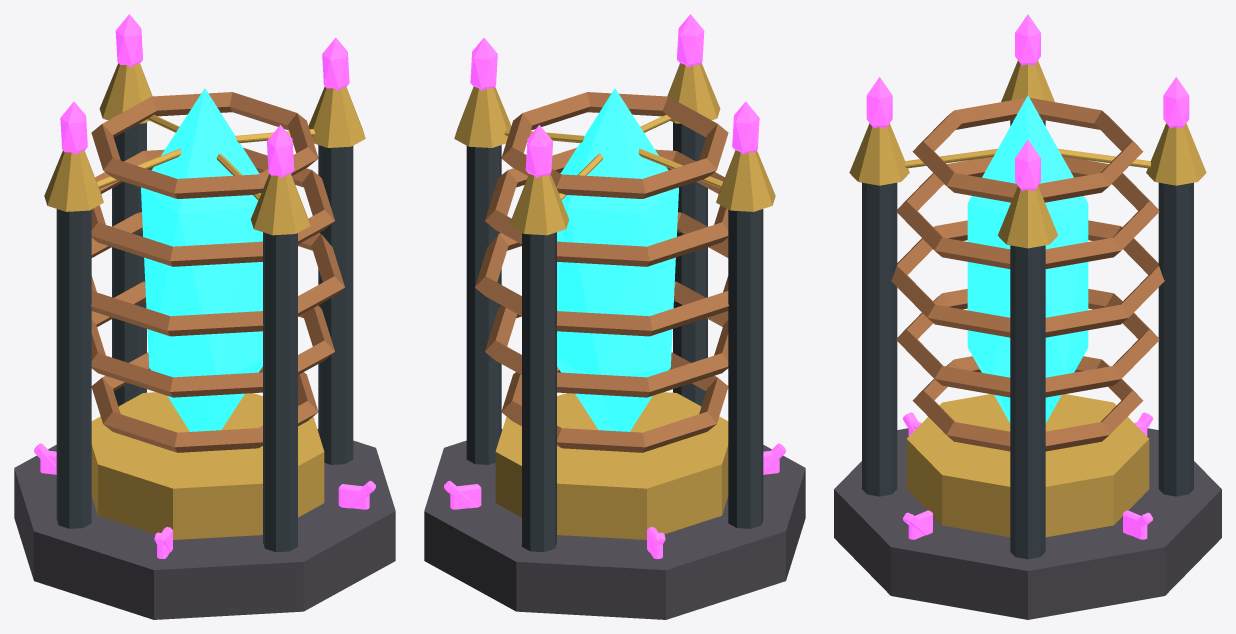
The model's file is mana_condenser.glb.
The picture shows the model from 3 angles, left to right: view 1: azimuth 30°, elevation 25°; view 2: azimuth 150°, elevation 25°; view 3: azimuth 270°, elevation 25°; orthographic projection.
Visible parts, largest first — view 1: Condenser plinth, Condenser crystal, Condenser socket, Arcane pylon.002, Arcane pylon.003, Arcane pylon, Copper induction coil.004, Copper induction coil.003, Copper induction coil.002, Copper induction coil.001, Copper induction coil, Arcane pylon.001 (+8 smaller); view 2: Condenser plinth, Condenser crystal, Condenser socket, Arcane pylon.002, Arcane pylon.001, Arcane pylon, Copper induction coil.004, Copper induction coil.003, Copper induction coil.002, Copper induction coil.001, Copper induction coil, Arcane pylon.003 (+8 smaller); view 3: Condenser plinth, Condenser socket, Condenser crystal, Arcane pylon, Arcane pylon.001, Arcane pylon.003, Copper induction coil.004, Copper induction coil.002, Copper induction coil.003, Copper induction coil.001, Copper induction coil, Pylon cap (+9 smaller).
Boxes of the visible parts, box(x1,y1,x2,y2) form: Condenser plinth: box(14, 429, 395, 619); Condenser crystal: box(141, 88, 262, 431); Condenser socket: box(91, 392, 324, 539); Arcane pylon.002: box(56, 209, 91, 528); Arcane pylon.003: box(263, 232, 297, 552); Arcane pylon: box(318, 145, 353, 464); Copper induction coil.004: box(91, 92, 318, 198); Copper induction coil.003: box(91, 147, 334, 266); Copper induction coil.002: box(91, 212, 344, 336); Copper induction coil.001: box(91, 281, 334, 397); Copper induction coil: box(91, 352, 318, 452); Arcane pylon.001: box(112, 122, 146, 406); Condenser plinth: box(424, 429, 805, 619); Condenser crystal: box(557, 88, 678, 431); Condenser socket: box(495, 392, 728, 539); Arcane pylon.002: box(728, 209, 763, 528); Arcane pylon.001: box(522, 232, 556, 552); Arcane pylon: box(466, 145, 501, 464); Copper induction coil.004: box(501, 92, 728, 198); Copper induction coil.003: box(485, 147, 728, 266); Copper induction coil.002: box(475, 212, 728, 336); Copper induction coil.001: box(485, 281, 728, 397); Copper induction coil: box(501, 352, 728, 452); Arcane pylon.003: box(673, 122, 707, 406); Condenser plinth: box(834, 428, 1221, 619); Condenser socket: box(906, 394, 1149, 537); Condenser crystal: box(967, 95, 1088, 423); Arcane pylon: box(1010, 245, 1045, 559); Arcane pylon.001: box(1158, 182, 1193, 496); Arcane pylon.003: box(862, 182, 897, 496); Copper induction coil.004: box(912, 98, 1143, 202); Copper induction coil.002: box(891, 220, 1164, 337); Copper induction coil.003: box(896, 157, 1159, 268); Copper induction coil.001: box(896, 289, 1159, 397); Copper induction coil: box(912, 356, 1143, 451); Pylon cap: box(998, 186, 1057, 248).
Bounding box in the file's own units: 2.3 × 3.02 × 2.3.
